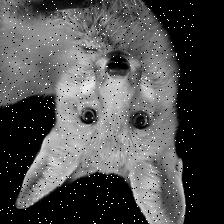fox: (0, 0, 195, 224)
